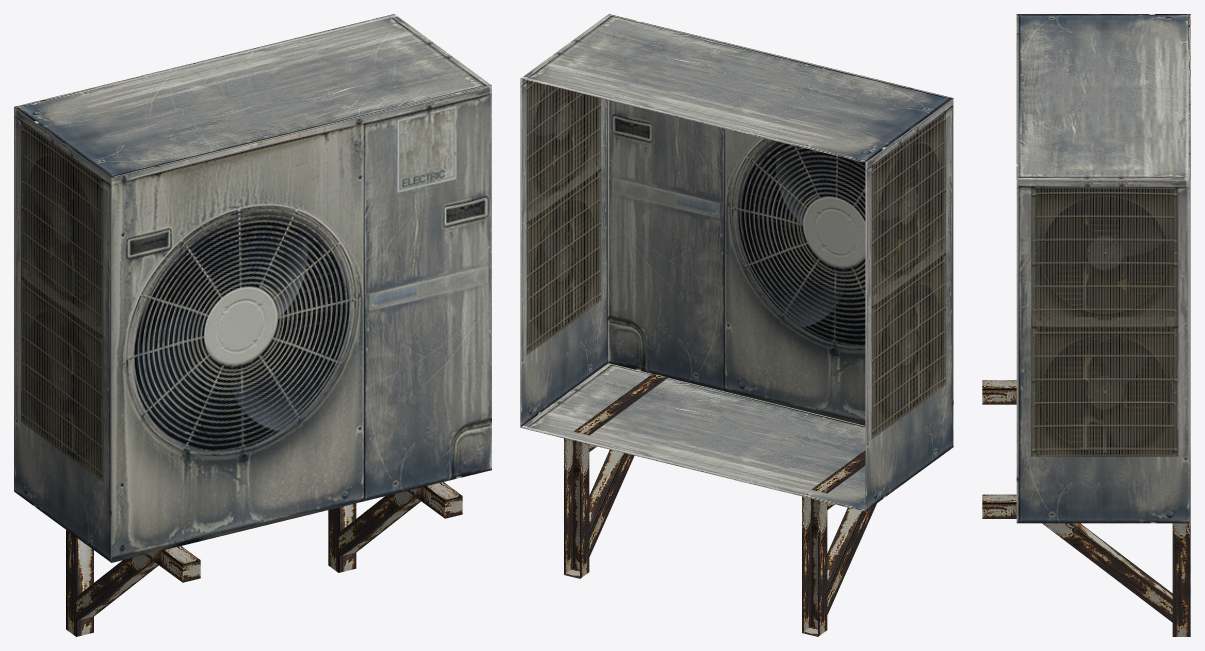
The model's file is Conditioner_v1.FBX.
3 views of the same model, side by side, from view 1: azimuth 30°, elevation 25°; view 2: azimuth 150°, elevation 25°; view 3: azimuth 270°, elevation 25° (orthographic). The views are drawn at different scales.
Parts seen in each view (by area): view 1: Conditioner_v1; view 2: Conditioner_v1; view 3: Conditioner_v1.
Boxes of the visible parts, x1,y1,x2,y2 form: Conditioner_v1: (14, 14, 491, 636); Conditioner_v1: (520, 14, 953, 636); Conditioner_v1: (982, 14, 1190, 636).
Size of the model in its own units: 1.15 by 1.55 by 0.6115.
